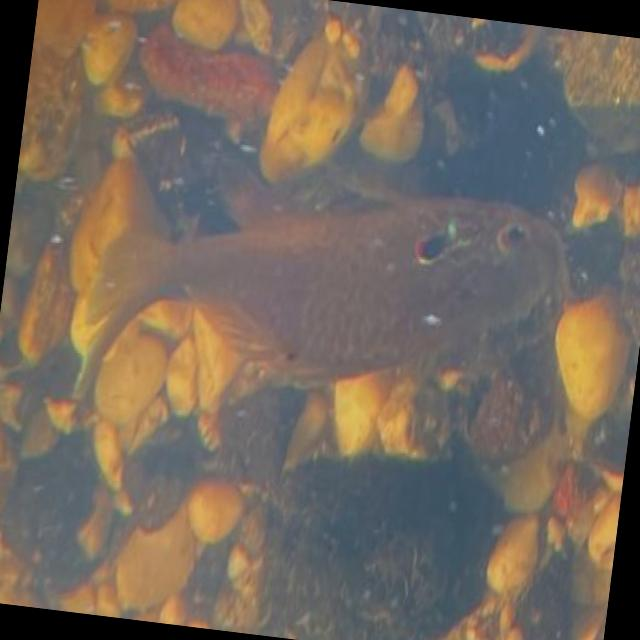Gunes Levregi: (69, 129, 574, 472)
